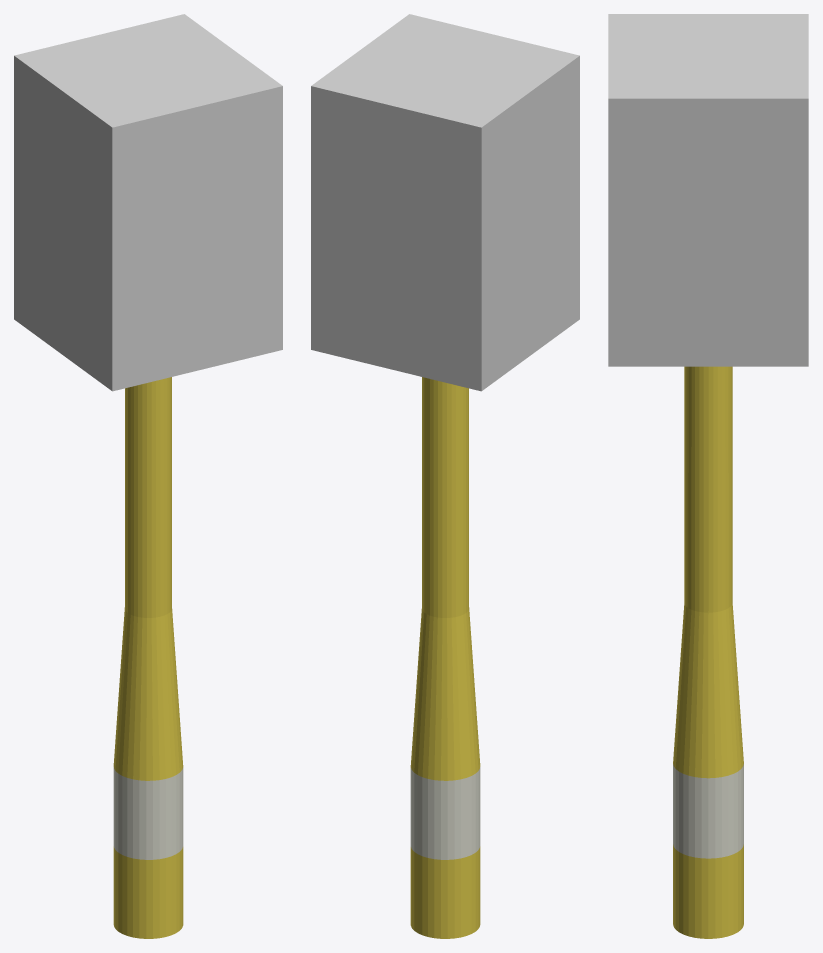
The model's file is toiletbrush.fbx.
3 views of the same model, side by side, from view 1: azimuth 30°, elevation 25°; view 2: azimuth 150°, elevation 25°; view 3: azimuth 270°, elevation 25° (orthographic).
Parts seen in each view (by area): view 1: Cube, Cylinder; view 2: Cube, Cylinder; view 3: Cube, Cylinder.
Part boxes in pixels (x1=…): Cube: x1=14, y1=14, x2=282, y2=391; Cylinder: x1=113, y1=377, x2=183, y2=938; Cube: x1=311, y1=14, x2=579, y2=391; Cylinder: x1=410, y1=377, x2=480, y2=938; Cube: x1=608, y1=14, x2=808, y2=366; Cylinder: x1=673, y1=366, x2=743, y2=938.
Bounding box in the file's own units: 113 × 540 × 113.
